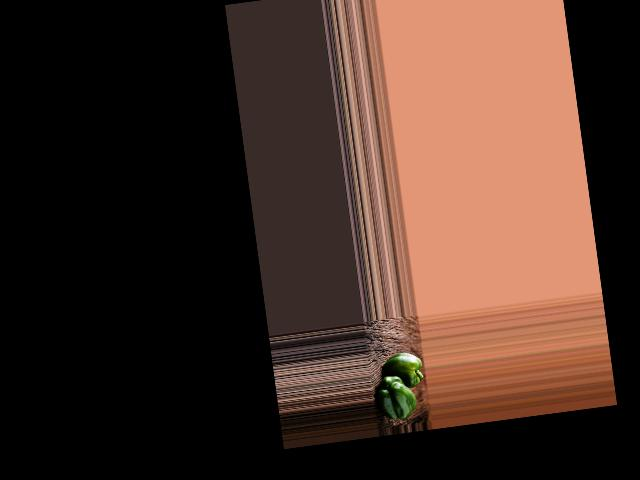bell_pepper: (375, 371, 419, 421)
